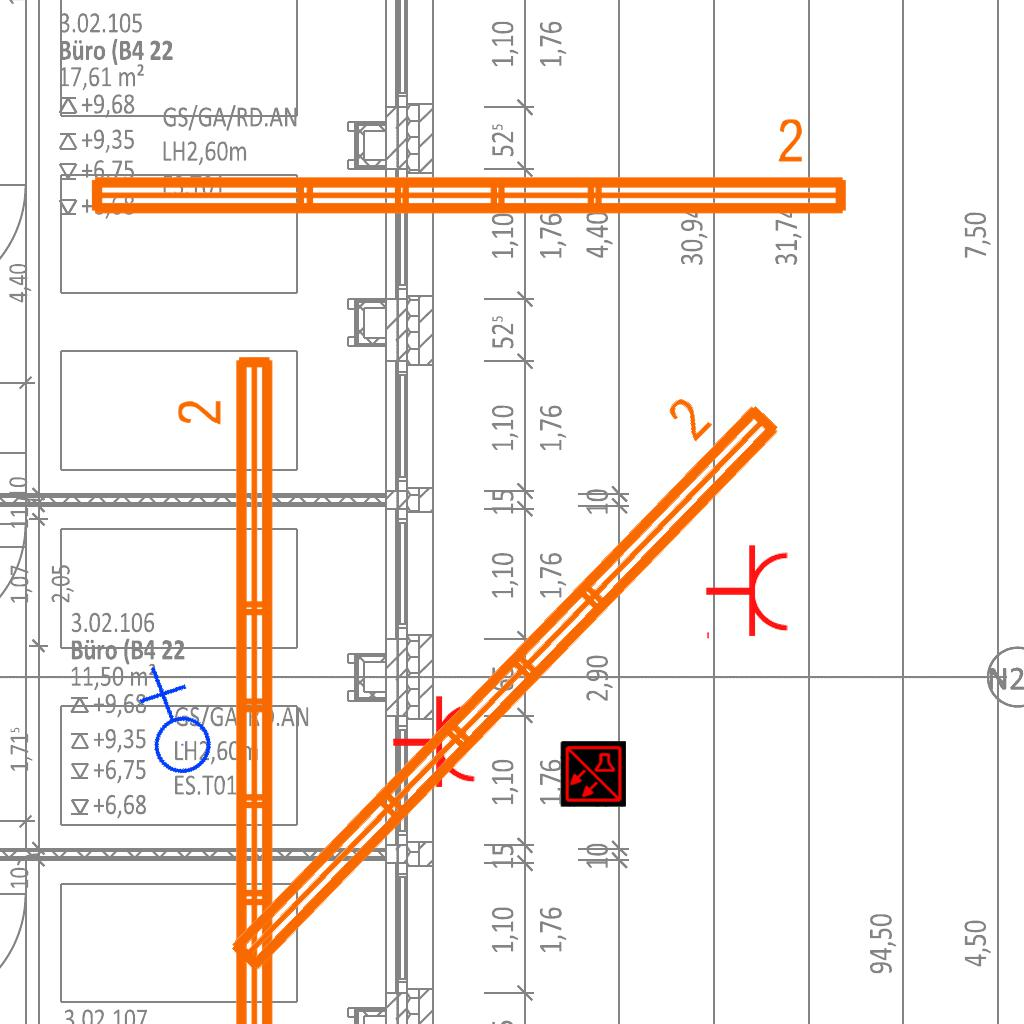Ambulanz_Pendelleuchte_LED: (176, 353, 796, 989), (81, 114, 855, 226), (173, 348, 285, 1024)
Elektroanschluss_allgemein_230V_Geraeteanschlussdose_230V: (108, 663, 235, 791)
OKW_Multisensormelder_(Kombination_optischer_Rauch-Kahlenmonoxid_Waerme-Melder): (560, 741, 626, 807)
Schukosteckdose_einfach: (391, 694, 478, 794), (704, 543, 791, 643)
